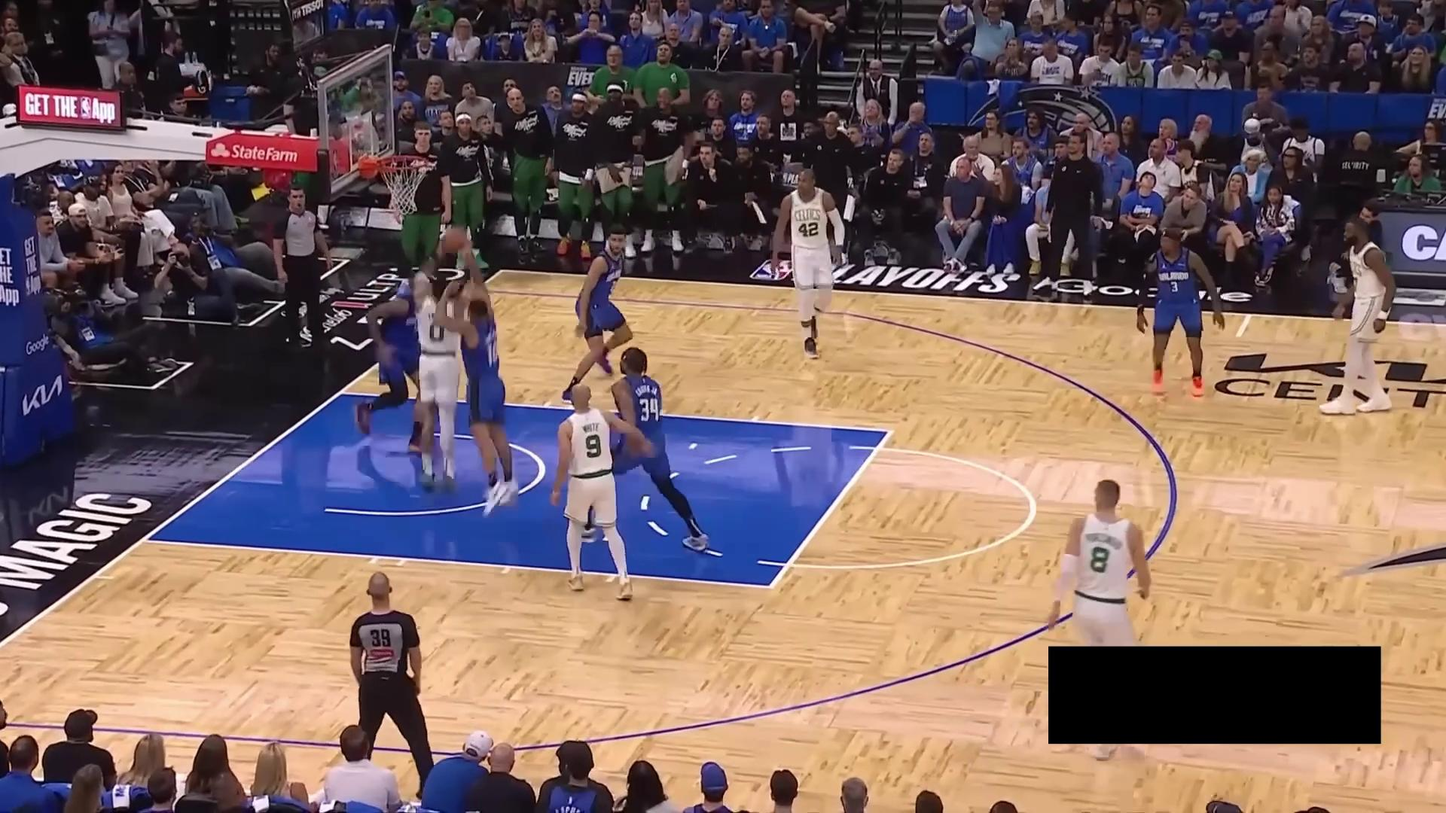ball: (444, 227, 467, 249)
number: (1088, 546, 1112, 573), (637, 396, 661, 423), (584, 433, 602, 458), (429, 319, 447, 343), (798, 221, 819, 238), (1170, 281, 1179, 293)
player: (1046, 474, 1156, 765), (547, 380, 653, 604), (605, 343, 715, 553), (350, 238, 449, 453), (1132, 224, 1229, 400), (767, 165, 849, 361), (1319, 212, 1396, 415), (557, 223, 640, 408)
player-layup-dunk: (409, 237, 476, 494)
player-shot-block: (432, 244, 533, 522)
referee: (347, 567, 438, 803), (268, 183, 336, 374)
rim: (375, 153, 430, 173)
